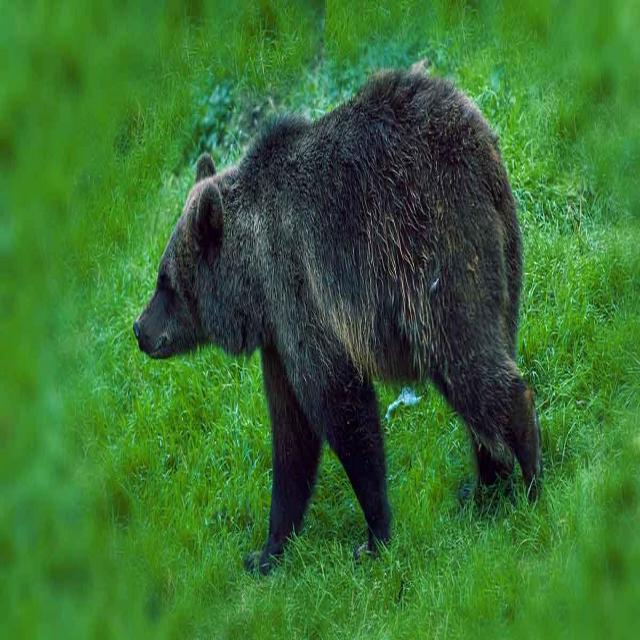Bear: (132, 64, 543, 576)
